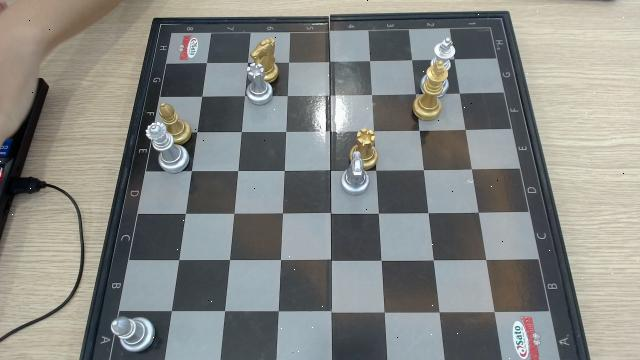black_bishop: (157, 102, 188, 123)
black_king: (414, 63, 448, 121)
black_knight: (249, 38, 276, 63)
black_rook: (355, 128, 375, 150)
white_bishop: (109, 315, 155, 355)
white_king: (430, 37, 457, 60)
white_knight: (341, 151, 370, 195)
white_queen: (145, 123, 172, 174)
white_rook: (243, 61, 271, 105)
